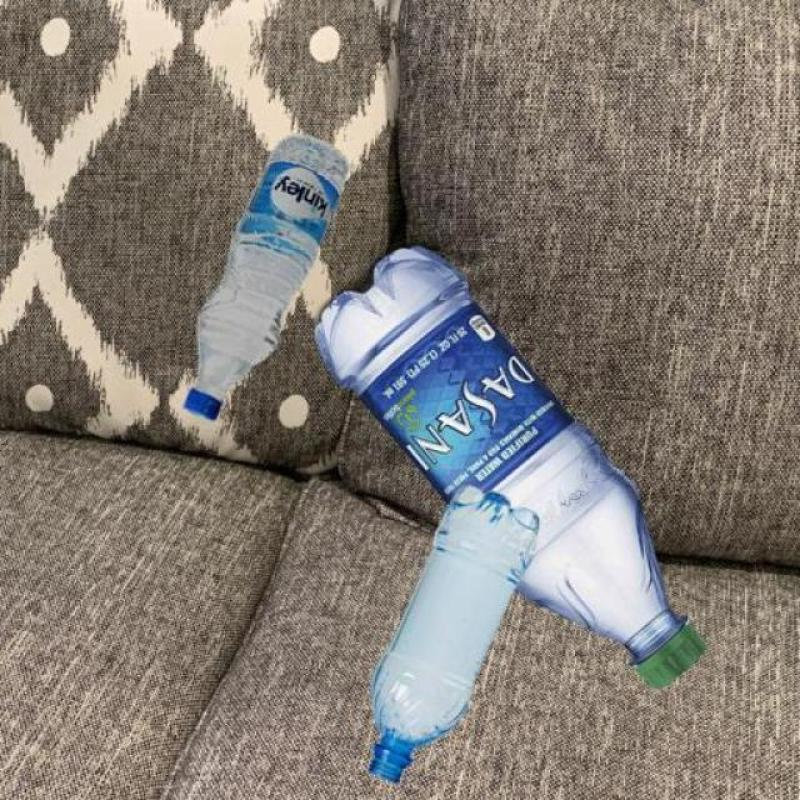botella: (316, 242, 708, 689), (366, 486, 540, 782), (179, 133, 346, 418)
